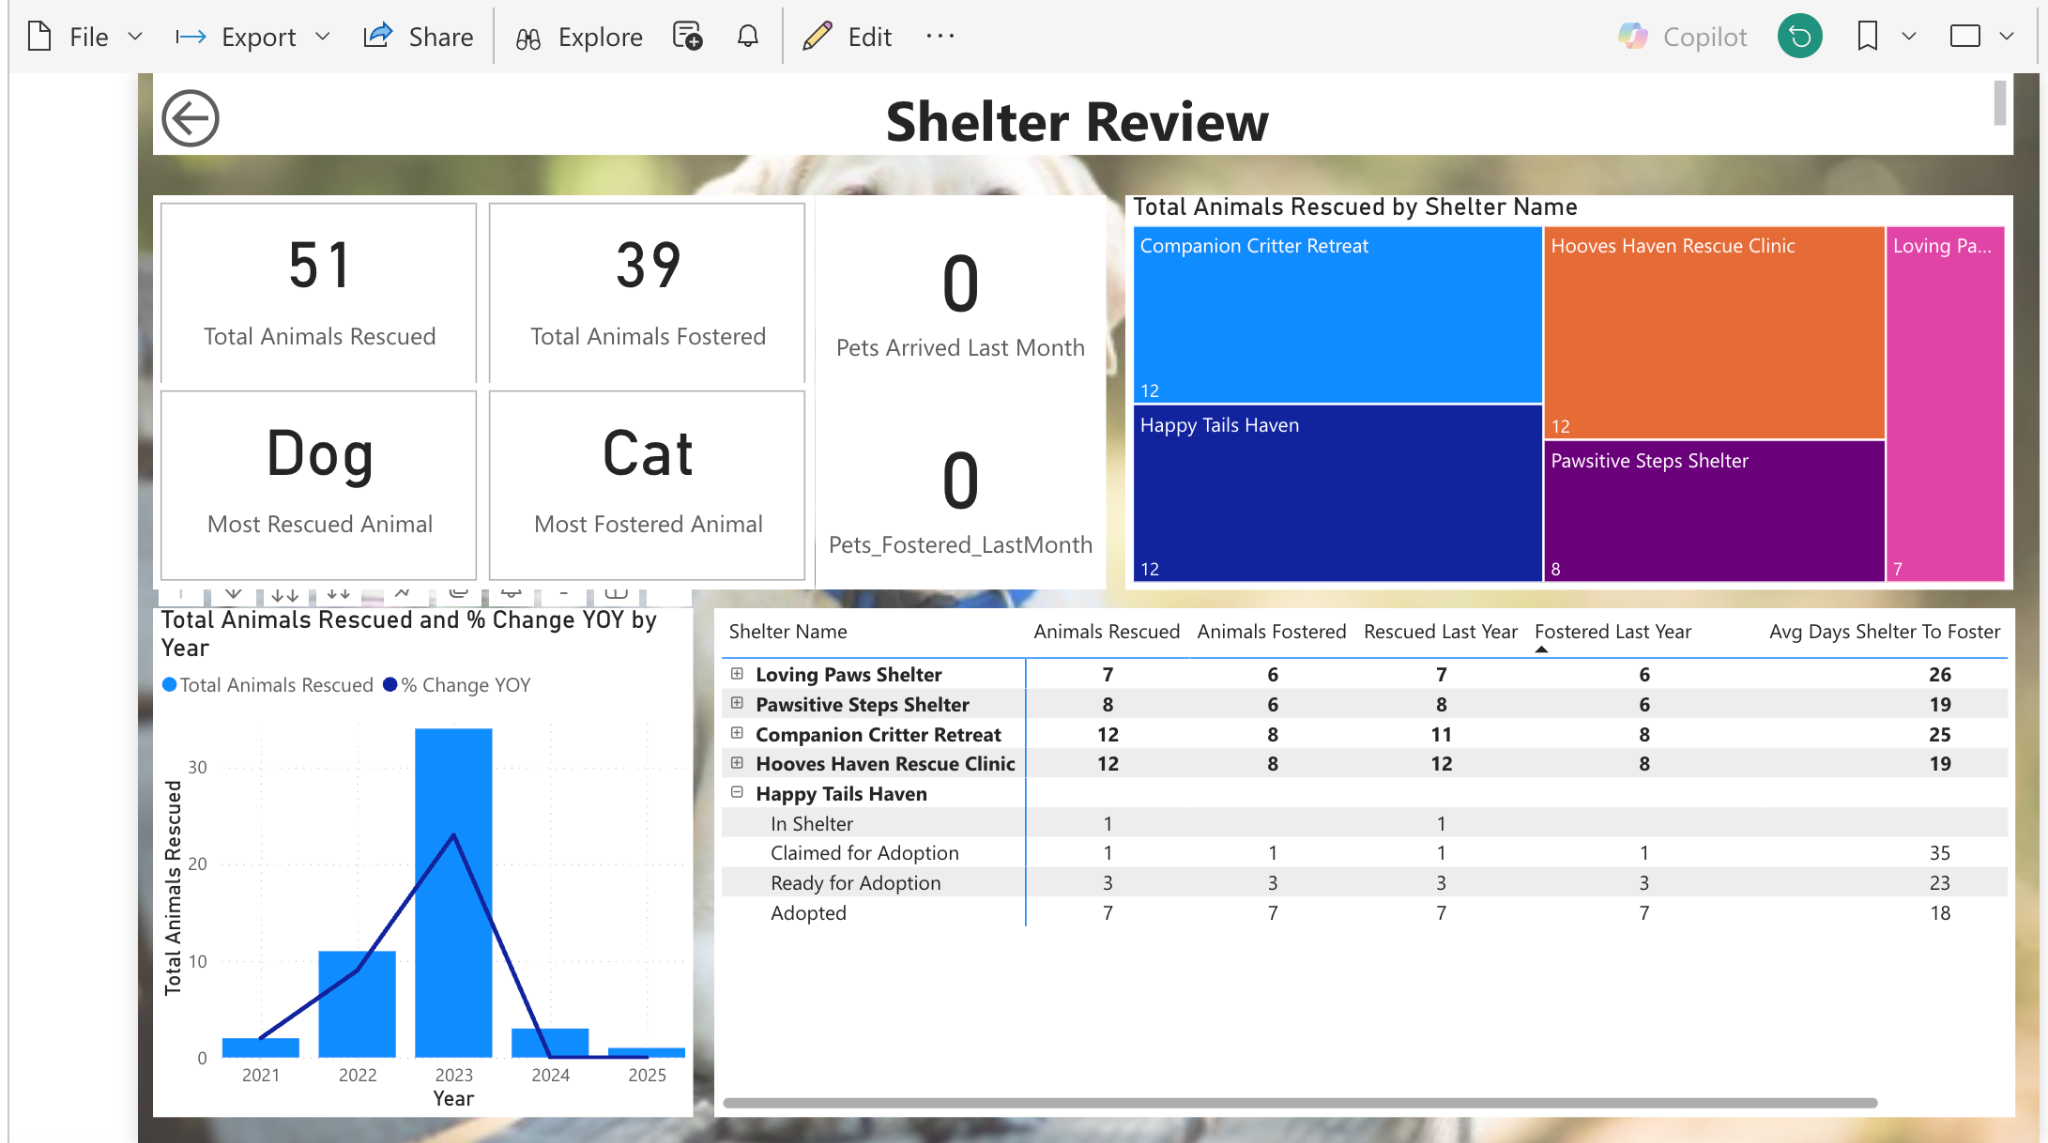

Layout of this report page (visuals, bound fields, positions):
{"tool":"powerbi","page":{"name":"Shelter Review","canvas":[1280,720],"ordinal":3},"visuals":[{"type":"pivotTable","fields":{"Rows":["pc_shelter.Shelter Name","pc_animal.Shelter Status"],"Values":["MyMeasures.Total Animals Rescued","MyMeasures.Total Animals Fostered","MyMeasures.Total Animals Rescued Last Year","MyMeasures.Total Animals Fostered Last Year","MyMeasures.Avg Days Shelter To Foster"]},"box":[387.3,359.8,875.6,342.7],"z":0},{"type":"treemap","fields":{"Group":["pc_shelter.Shelter Name"],"Values":["MyMeasures.Total Animals Rescued"]},"box":[664.7,82.2,597.3,265.6],"z":1000},{"type":"textbox","box":[10.6,0,1252.1,55.2],"z":2000},{"type":"actionButton","box":[10.6,4.7,123.3,50.5],"z":3000},{"type":"cardVisual","fields":{"Data":["MyMeasures.Total Animals Rescued","MyMeasures.Total Animals Fostered"]},"box":[10.3,82.2,445.5,138.8],"z":4000},{"type":"lineStackedColumnComboChart","fields":{"Category":["dimDate.Year Hierarchy.Year","dimDate.Year Hierarchy.Month"],"Y":["MyMeasures.Total Animals Rescued"],"Y2":["MyMeasures.Change YOY Animal Rescued"]},"box":[10.3,359.8,363.3,342.7],"z":5000},{"type":"cardVisual","fields":{"Data":["MyMeasures.Most Rescued Animal","MyMeasures.Most Fostered Animal"]},"box":[10.3,209,445.5,138.8],"z":9000},{"type":"card","fields":{"Values":["MyMeasures.Pets_Arrived_LastMonth"]},"box":[455.7,82.2,195.5,126.7],"z":9001},{"type":"card","fields":{"Values":["MyMeasures.Pets_Fostered_LastMonth"]},"box":[455.7,209,195.5,138.9],"z":9002}]}

Visuals, with their boxes on the page's 1280x720 design canvas (x1, y1, x2, y2). These are canvas units, not pixel positions in the 2048x1143 screenshot, which may show the page scaled, cropped or inside an application window:
pivotTable - pc_shelter.Shelter Name x pc_animal.Shelter Status: locate(387, 360, 1263, 702)
treemap - pc_shelter.Shelter Name x MyMeasures.Total Animals Rescued: locate(665, 82, 1262, 348)
textbox: locate(11, 0, 1263, 55)
actionButton: locate(11, 5, 134, 55)
cardVisual - MyMeasures.Total Animals Rescued x MyMeasures.Total Animals Fostered: locate(10, 82, 456, 221)
lineStackedColumnComboChart - dimDate.Year Hierarchy.Year x dimDate.Year Hierarchy.Month: locate(10, 360, 374, 702)
cardVisual - MyMeasures.Most Rescued Animal x MyMeasures.Most Fostered Animal: locate(10, 209, 456, 348)
card - MyMeasures.Pets_Arrived_LastMonth: locate(456, 82, 651, 209)
card - MyMeasures.Pets_Fostered_LastMonth: locate(456, 209, 651, 348)
